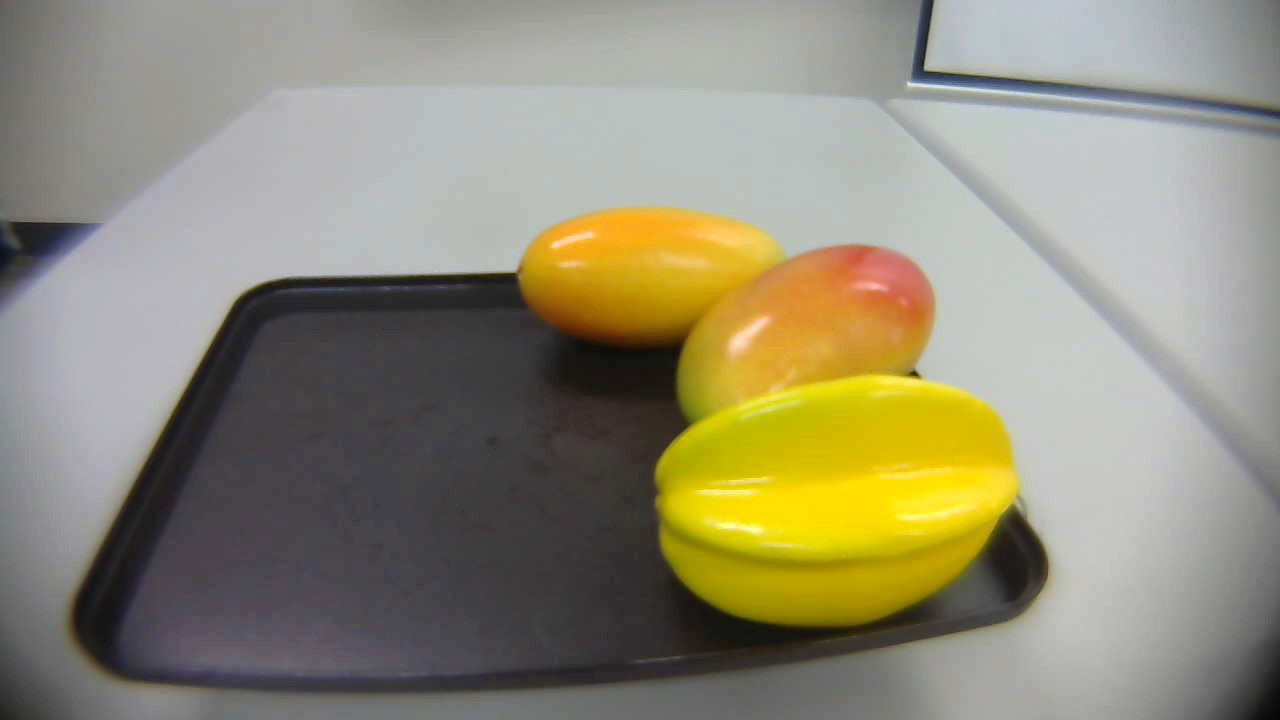red mango: (667, 242, 943, 432)
star fruit: (647, 368, 1025, 632)
yellow mango: (507, 202, 800, 358)
